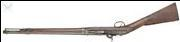gun: (2, 1, 178, 40)
